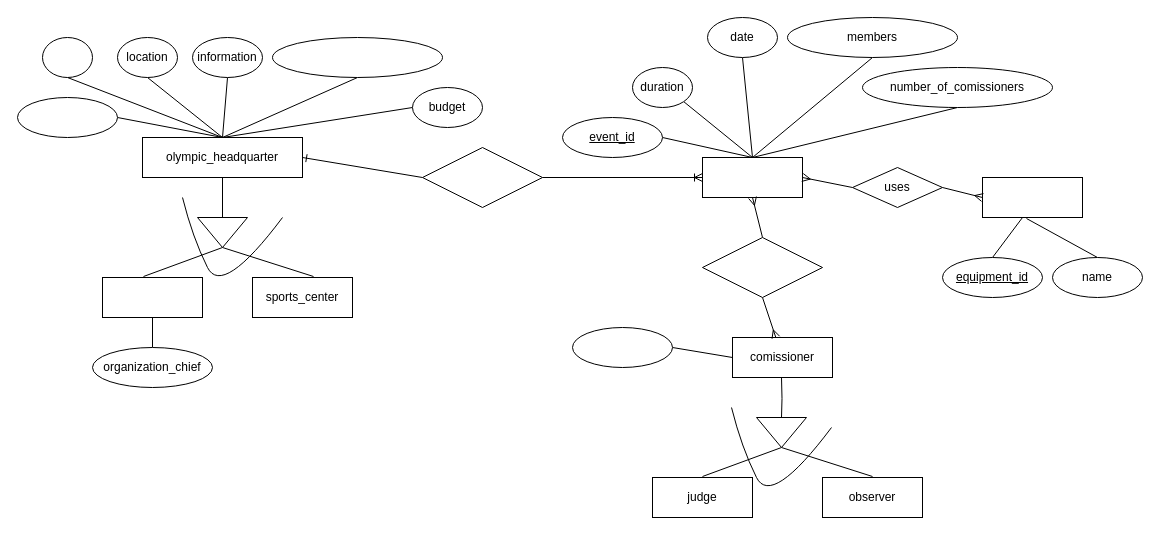
Some shapes in this 1160 by 535 pixel diagram are drawn without their labels. The shapes that lost their labels are listed below. From the top down, each one's centre as x and y in pixels, then its label:
[67,57]: area
[357,57]: number_of_centers
[67,117]: center_id
[482,177]: celebrates
[752,177]: event
[1032,197]: equipment
[762,267]: joins
[152,297]: sports_complex
[622,347]: comissioner_id
